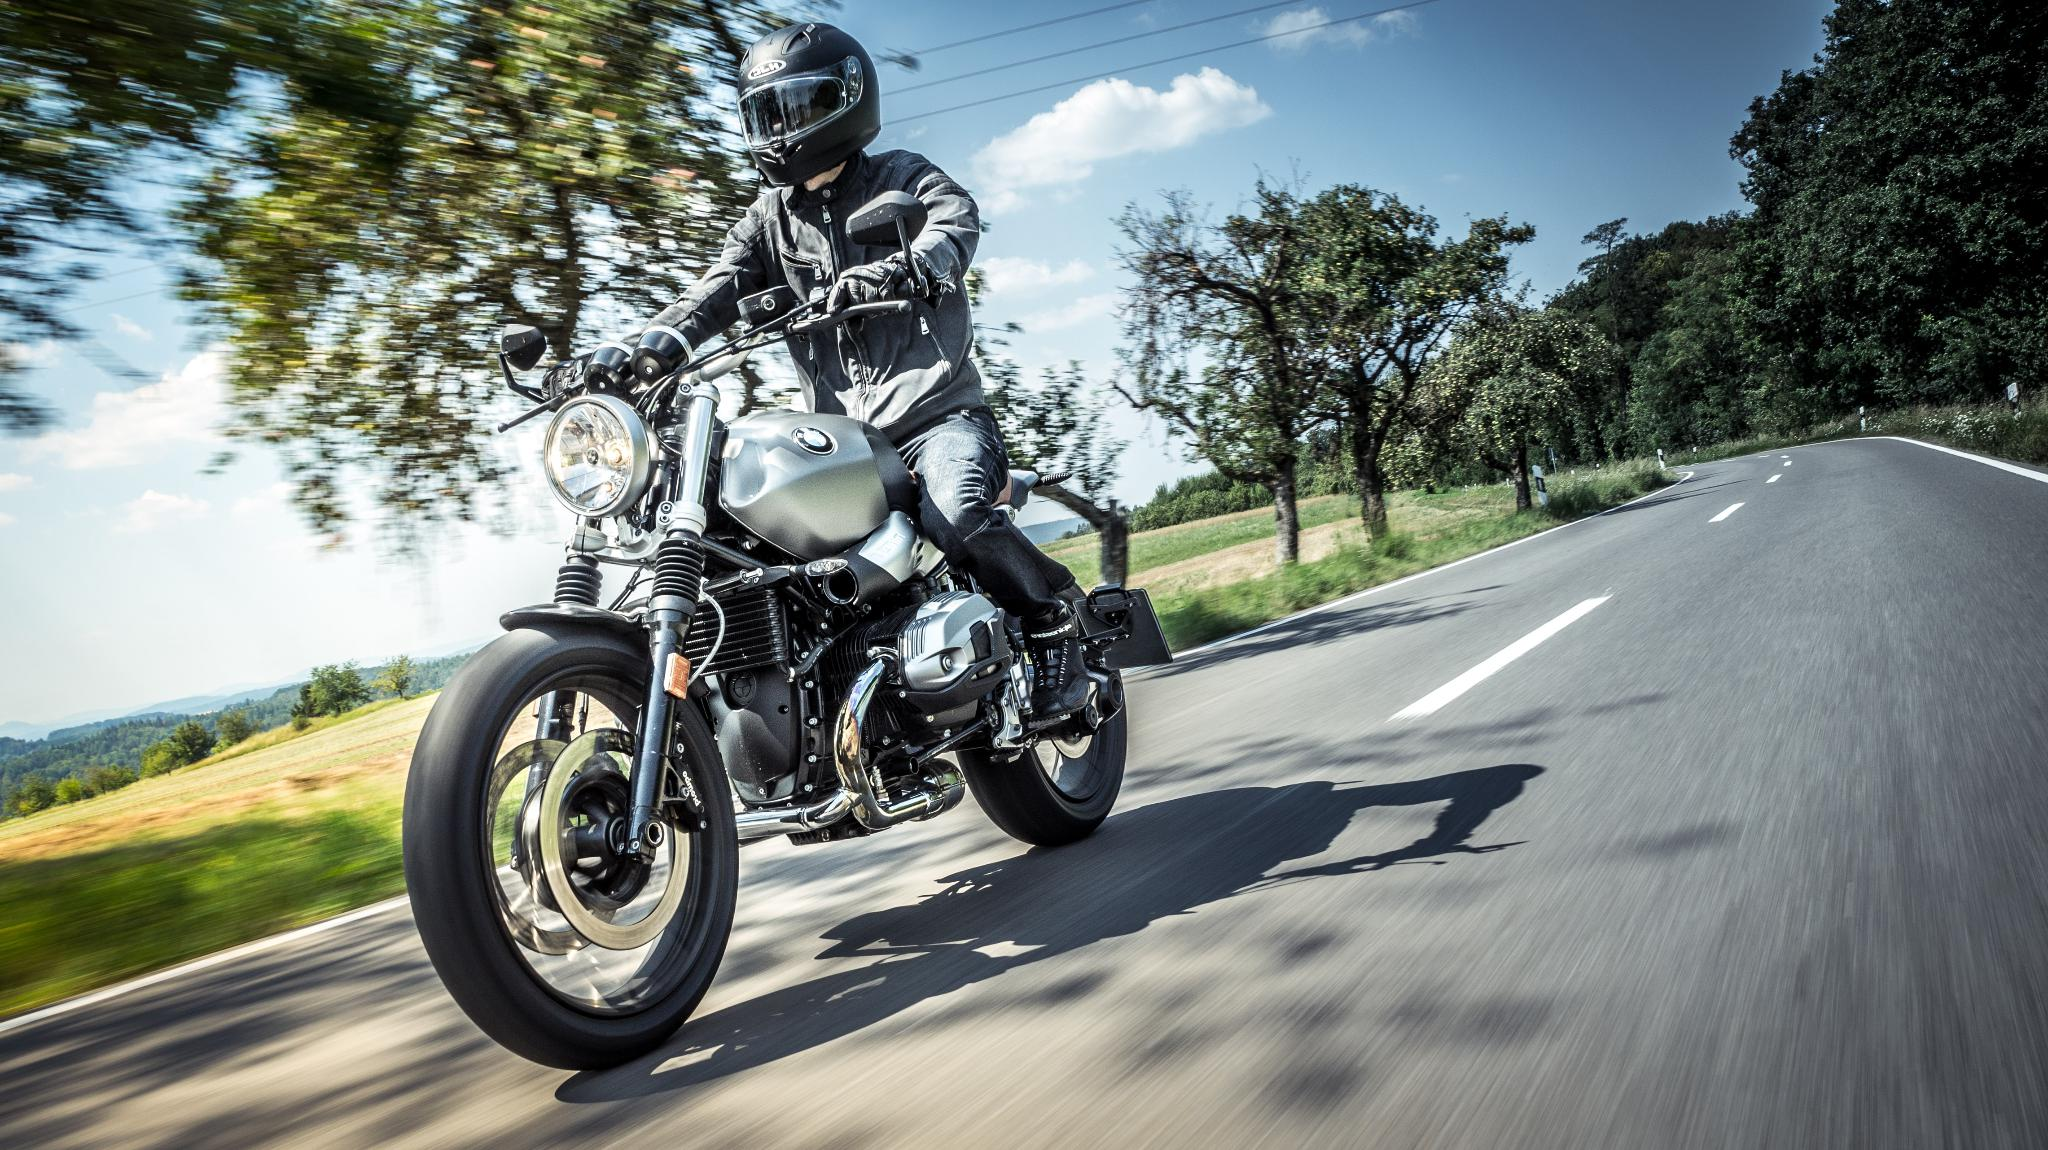motorcycle: (384, 231, 1177, 1128)
